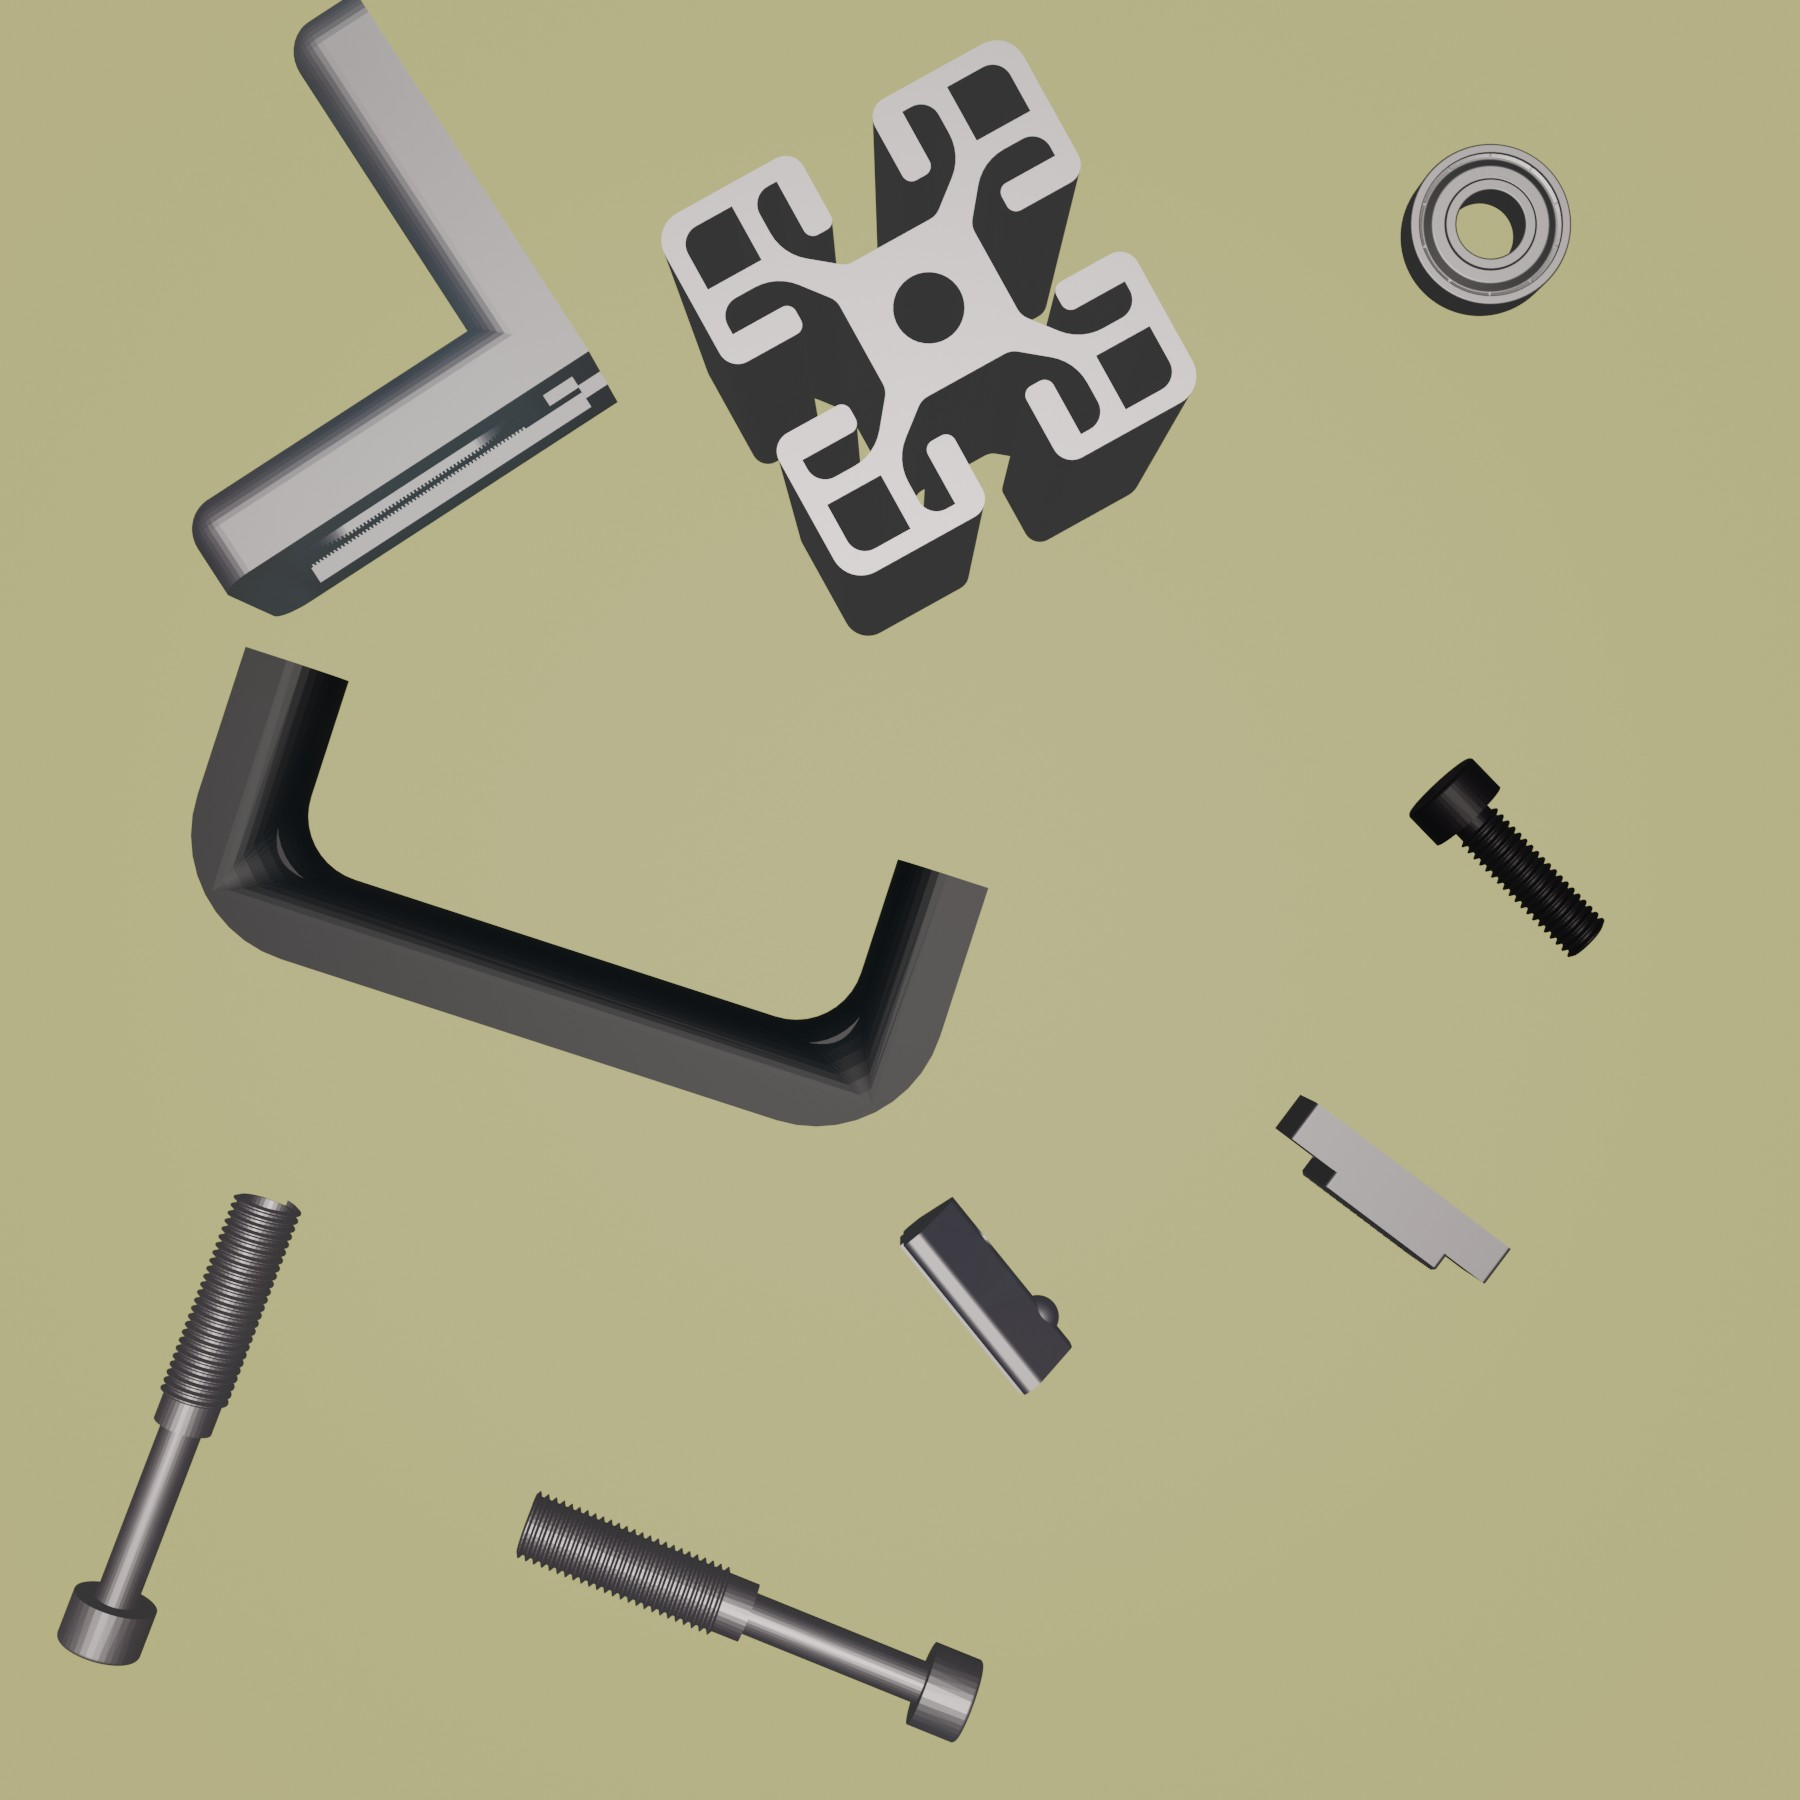Aluminium Extension: (656, 35, 1200, 640)
Ball Bearing: (1399, 138, 1576, 320)
Multiwinkel: (190, 2, 621, 620)
Pull Handle: (186, 643, 992, 1131)
Shoulder Socket Head Cap Screw: (513, 1488, 986, 1746), (56, 1188, 305, 1670)
Socket Head Cap Screw: (1404, 753, 1605, 961)
T Nut Square: (1274, 1091, 1515, 1289)
T Spring Nut: (897, 1193, 1075, 1399)
